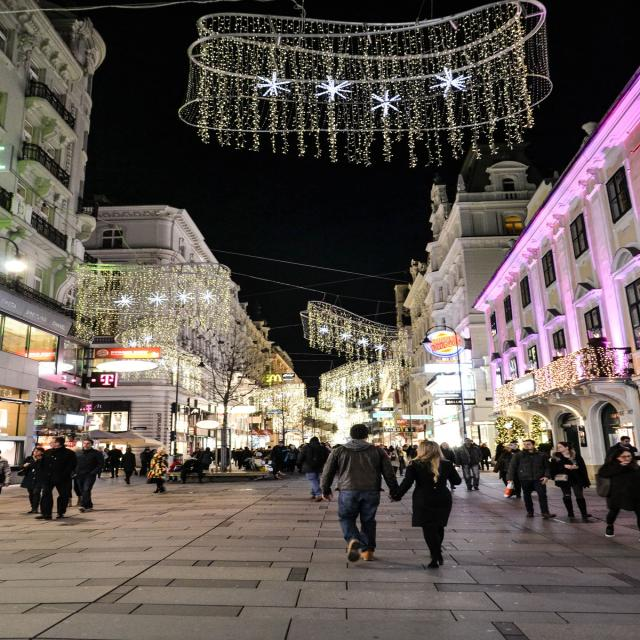body: (318, 423, 403, 563), (386, 439, 463, 570), (502, 438, 559, 520), (592, 448, 640, 537), (32, 435, 78, 521), (550, 441, 593, 520), (73, 439, 104, 513), (296, 436, 330, 502), (15, 446, 46, 514), (454, 437, 484, 491), (498, 443, 522, 498), (145, 445, 170, 494), (438, 442, 462, 491), (70, 446, 88, 506), (248, 454, 286, 480), (605, 436, 639, 460), (102, 444, 124, 478), (119, 446, 138, 484), (268, 440, 288, 474), (281, 444, 301, 476), (180, 459, 205, 484), (0, 450, 13, 497), (389, 446, 408, 476), (94, 446, 110, 478), (164, 457, 183, 482), (139, 446, 155, 475), (198, 447, 216, 470), (100, 447, 115, 473), (138, 448, 150, 478), (480, 443, 492, 471), (145, 449, 158, 473), (493, 442, 507, 462), (476, 441, 486, 469), (248, 452, 262, 470), (409, 444, 420, 461), (213, 448, 222, 467), (240, 446, 253, 459), (190, 447, 203, 460), (537, 441, 553, 451), (232, 449, 240, 467), (210, 447, 218, 465), (196, 447, 206, 459), (230, 448, 237, 464), (324, 444, 334, 452), (297, 443, 308, 450), (257, 446, 266, 454), (385, 445, 395, 452), (509, 439, 518, 446), (403, 443, 410, 451), (249, 448, 255, 457), (332, 443, 342, 448), (265, 446, 273, 452), (471, 440, 477, 446), (372, 443, 379, 448), (319, 441, 326, 446), (379, 444, 385, 449), (324, 442, 330, 446), (238, 448, 244, 452), (286, 444, 291, 448), (453, 445, 458, 449), (396, 444, 398, 450), (255, 448, 260, 450), (263, 447, 266, 450)
